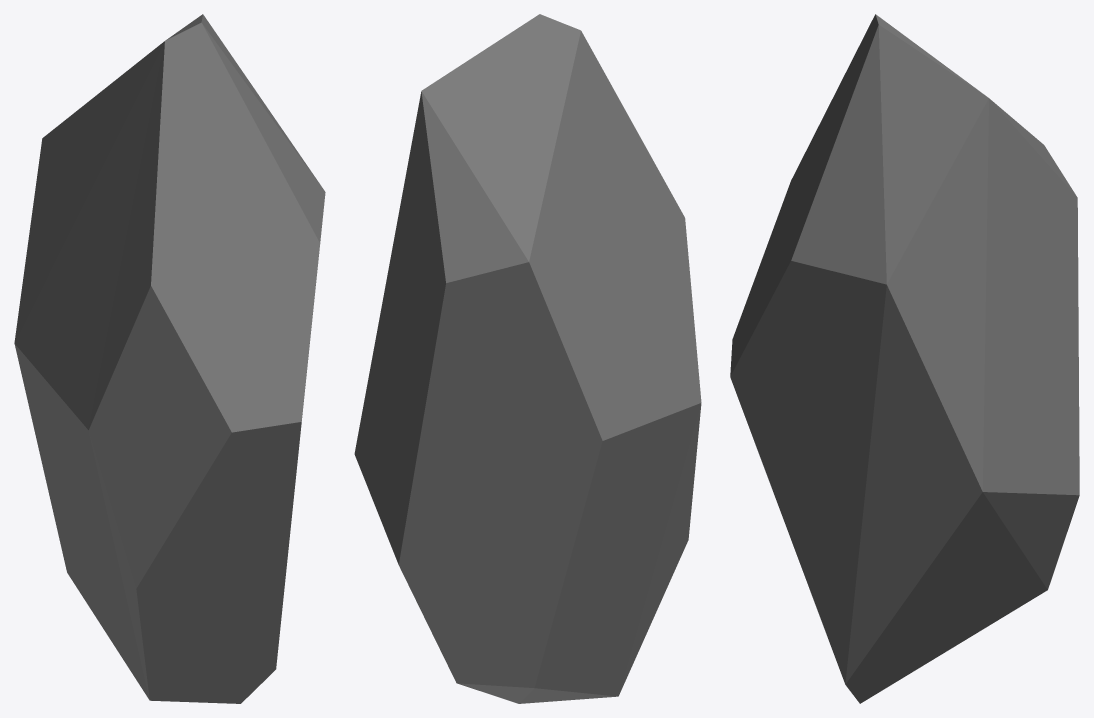
The model's file is Crystal.fbx.
The picture shows the model from 3 angles, left to right: view 1: azimuth 30°, elevation 25°; view 2: azimuth 150°, elevation 25°; view 3: azimuth 270°, elevation 25°; orthographic projection. The views are drawn at different scales.
Visible parts, largest first — view 1: Crystal; view 2: Crystal; view 3: Crystal.
Boxes of the visible parts, bbox=[...] form: Crystal: bbox=[14, 14, 325, 703]; Crystal: bbox=[354, 14, 701, 703]; Crystal: bbox=[730, 14, 1079, 703].
Bounding box in the file's own units: 90.13 × 223 × 106.
